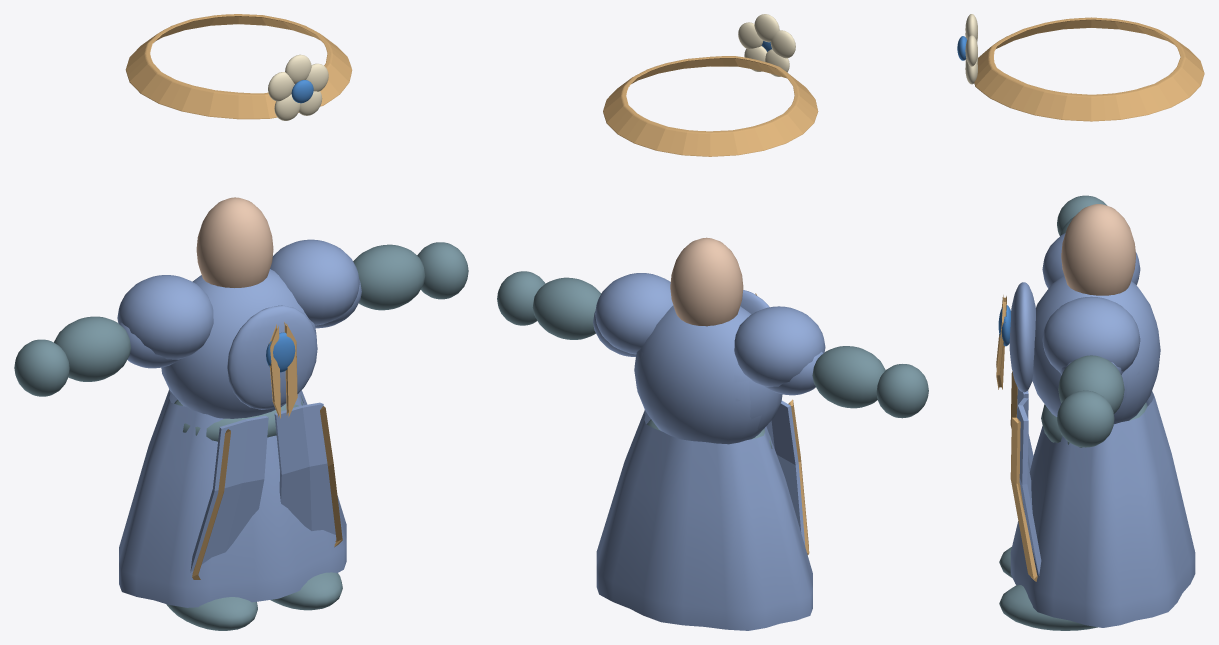
File: mage-casual-v2.glb
3 views of the same model, side by side, from view 1: azimuth 30°, elevation 25°; view 2: azimuth 150°, elevation 25°; view 3: azimuth 270°, elevation 25° (orthographic). The views are drawn at different scales.
Visible parts, largest first — view 1: TLL_hips, TLL_chest, TLL_head, TLL_upperarmr, TLL_upperarml, TLL_lowerarmr, TLL_lowerarml, TLL_handr, TLL_handl, TLL_footr, TLL_footl; view 2: TLL_hips, TLL_chest, TLL_head, TLL_upperarmr, TLL_upperarml, TLL_lowerarmr, TLL_lowerarml, TLL_handr, TLL_handl; view 3: TLL_hips, TLL_chest, TLL_head, TLL_upperarml, TLL_handl, TLL_lowerarml, TLL_footl, TLL_upperarmr, TLL_handr.
Boxes of the visible parts, <box> form: TLL_hips: <box>119,389,346,607</box>; TLL_chest: <box>161,197,317,418</box>; TLL_head: <box>125,14,352,120</box>; TLL_upperarmr: <box>117,275,213,368</box>; TLL_upperarml: <box>270,239,361,328</box>; TLL_lowerarmr: <box>54,316,130,381</box>; TLL_lowerarml: <box>353,244,425,310</box>; TLL_handr: <box>14,339,69,396</box>; TLL_handl: <box>417,242,468,299</box>; TLL_footr: <box>166,597,257,630</box>; TLL_footl: <box>270,572,342,610</box>; TLL_hips: <box>596,399,812,630</box>; TLL_chest: <box>634,237,782,444</box>; TLL_head: <box>603,14,818,156</box>; TLL_upperarmr: <box>734,306,825,395</box>; TLL_upperarml: <box>593,273,673,356</box>; TLL_lowerarmr: <box>812,346,885,408</box>; TLL_lowerarml: <box>532,277,601,339</box>; TLL_handr: <box>876,364,928,418</box>; TLL_handl: <box>497,271,545,325</box>; TLL_hips: <box>1010,371,1195,627</box>; TLL_chest: <box>996,204,1160,424</box>; TLL_head: <box>957,14,1204,121</box>; TLL_upperarml: <box>1042,296,1140,375</box>; TLL_handl: <box>1057,390,1114,447</box>; TLL_lowerarml: <box>1058,355,1124,413</box>; TLL_footl: <box>999,584,1097,630</box>; TLL_upperarmr: <box>1042,233,1140,288</box>; TLL_handr: <box>1057,195,1107,235</box>.
Bounding box in the file's own units: 1.79 × 2.25 × 0.8574.
